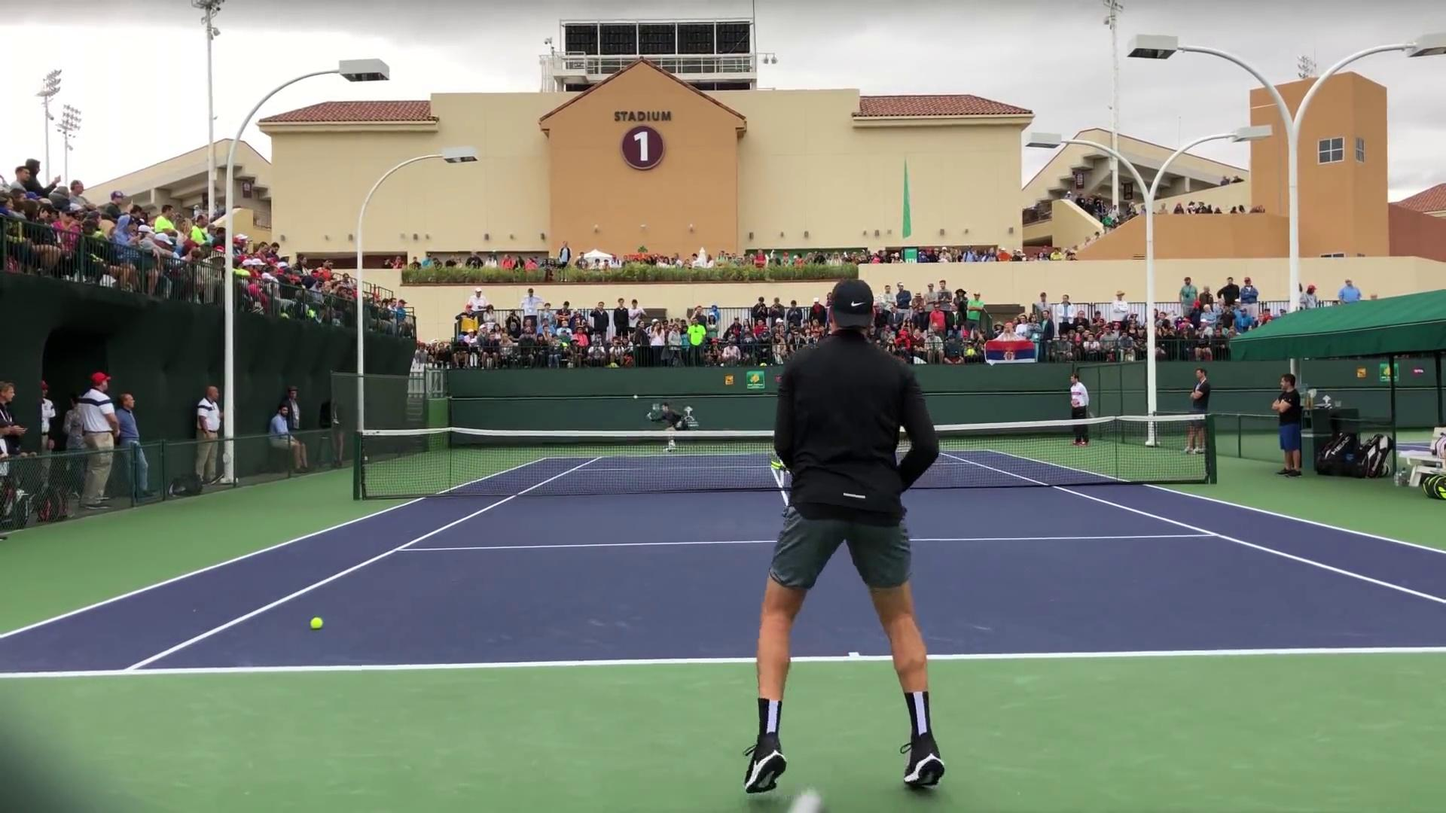ball: (309, 616, 323, 628), (633, 393, 638, 399)
